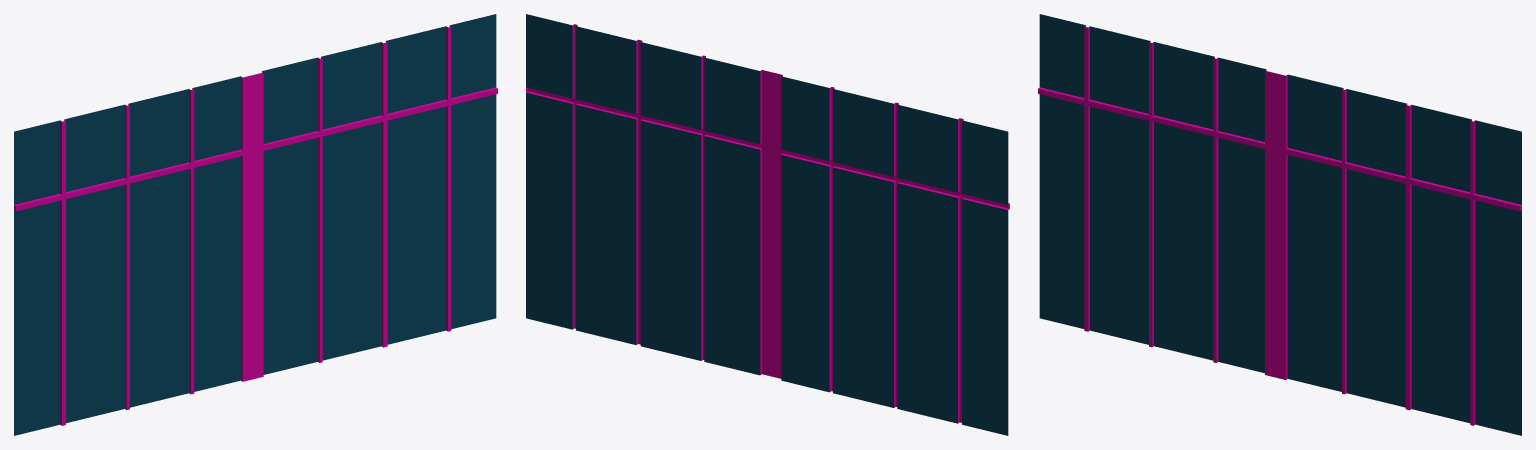
File: Stalglasvaggarna_bakom_reception1.fbx
3 renders of one model, left to right at view 1: azimuth 30°, elevation 25°; view 2: azimuth 150°, elevation 25°; view 3: azimuth 330°, elevation 25°, orthographic.
Visible parts, largest first — view 1: back_reception; view 2: back_reception; view 3: back_reception.
Part boxes in pixels (<box>): back_reception: <box>14,14,497,435</box>; back_reception: <box>526,14,1009,435</box>; back_reception: <box>1038,14,1521,435</box>.
Bounding box in the file's own units: 517 × 312 × 3.25.
